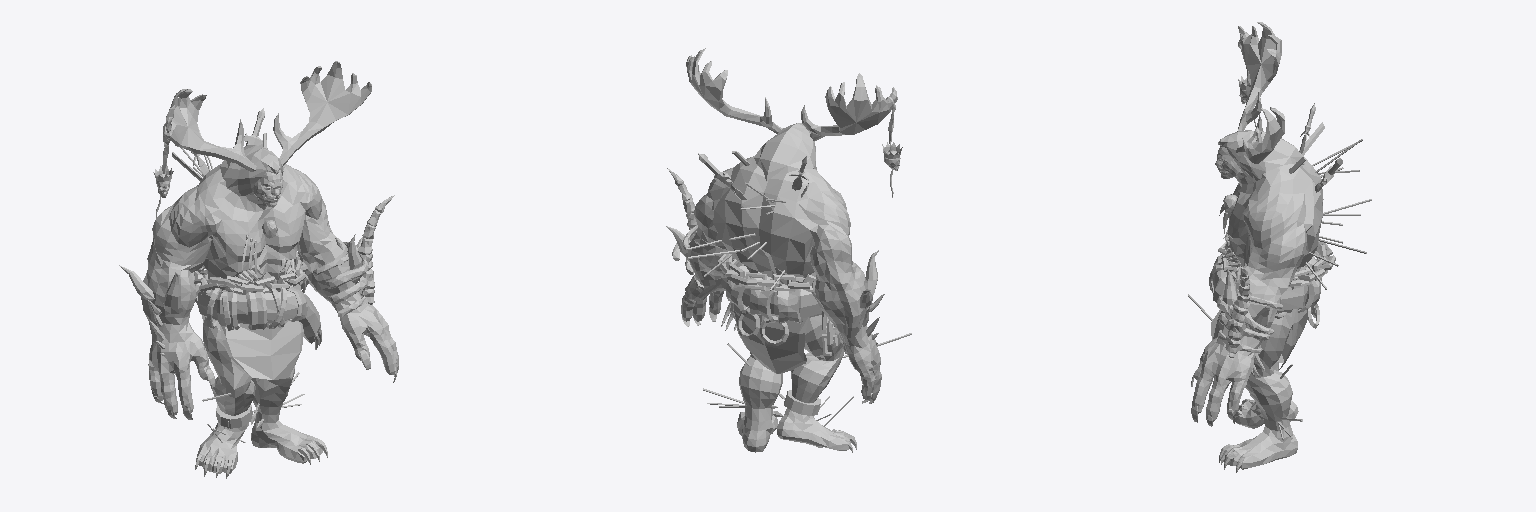
File: walking_000018.obj
3 views of the same model, side by side, from view 1: azimuth 30°, elevation 25°; view 2: azimuth 150°, elevation 25°; view 3: azimuth 270°, elevation 25° (orthographic).
Parts seen in each view (by area): view 1: MAW; view 2: MAW; view 3: MAW.
Boxes of the visible parts, box(x1,y1,x2,y2) form: MAW: box(119, 61, 398, 478); MAW: box(666, 48, 911, 452); MAW: box(1188, 22, 1371, 472).
Size of the model in its own units: 15.13 by 23.33 by 10.03.